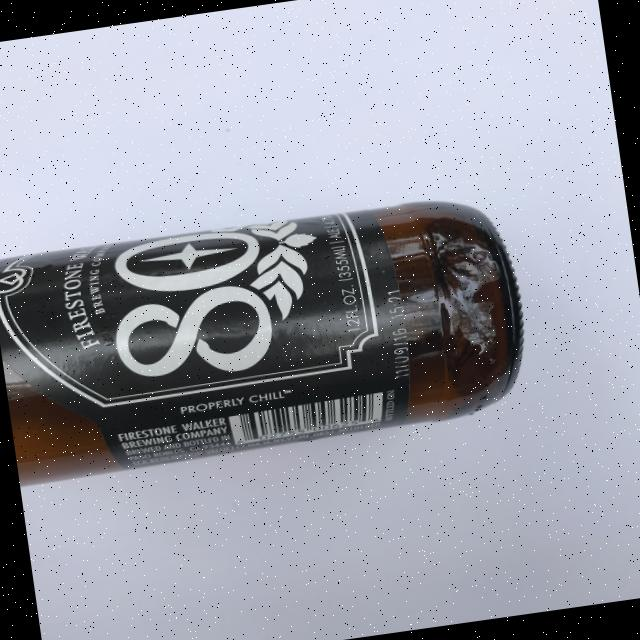glass: (0, 186, 537, 483)
